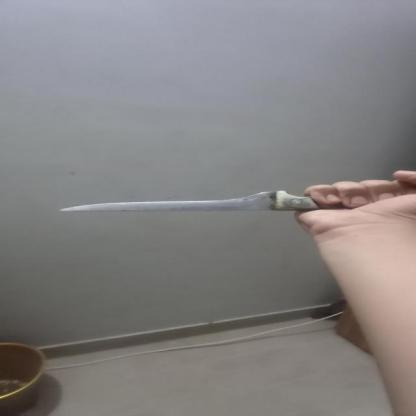Knife: (54, 185, 416, 222)
